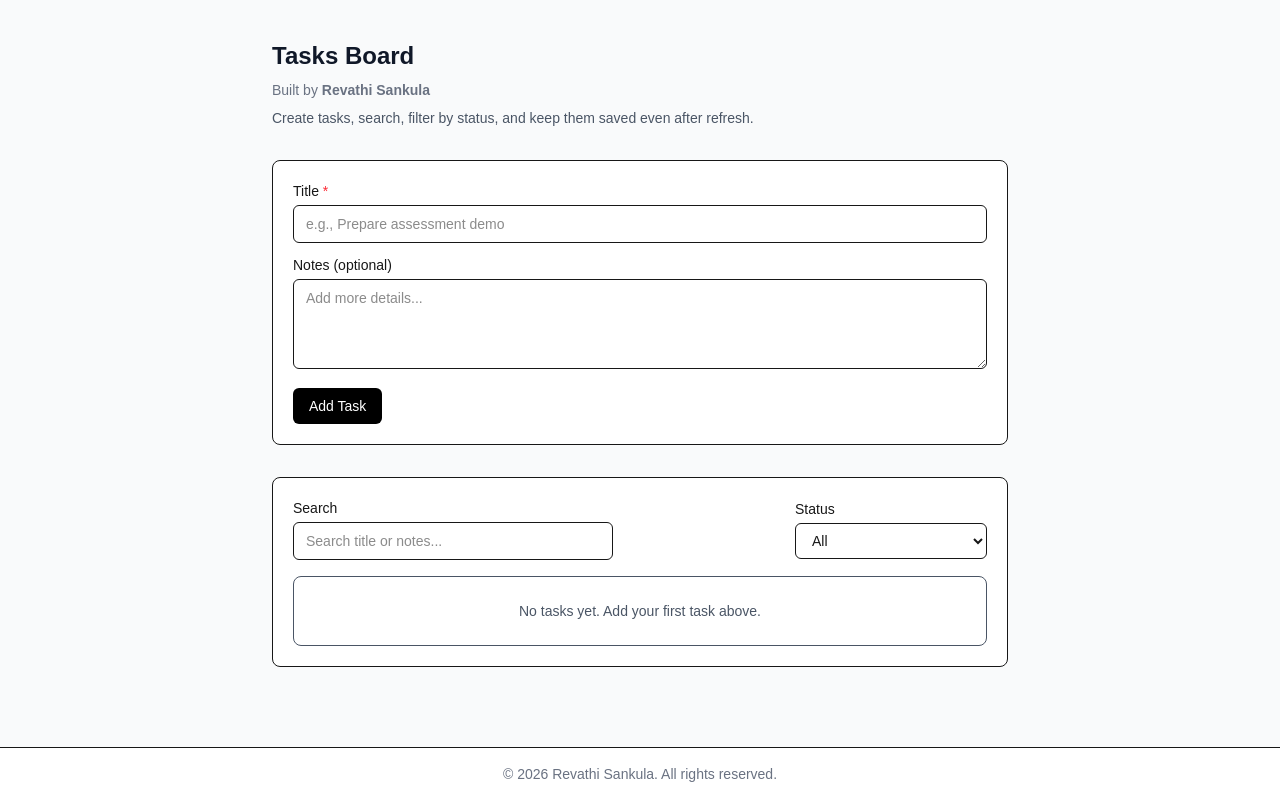
Test: Tasks Board workflow › search filters tasks by title/notes
In the field labelled "Title *": (640, 224) [293,205,987,243], type "Buy milk"
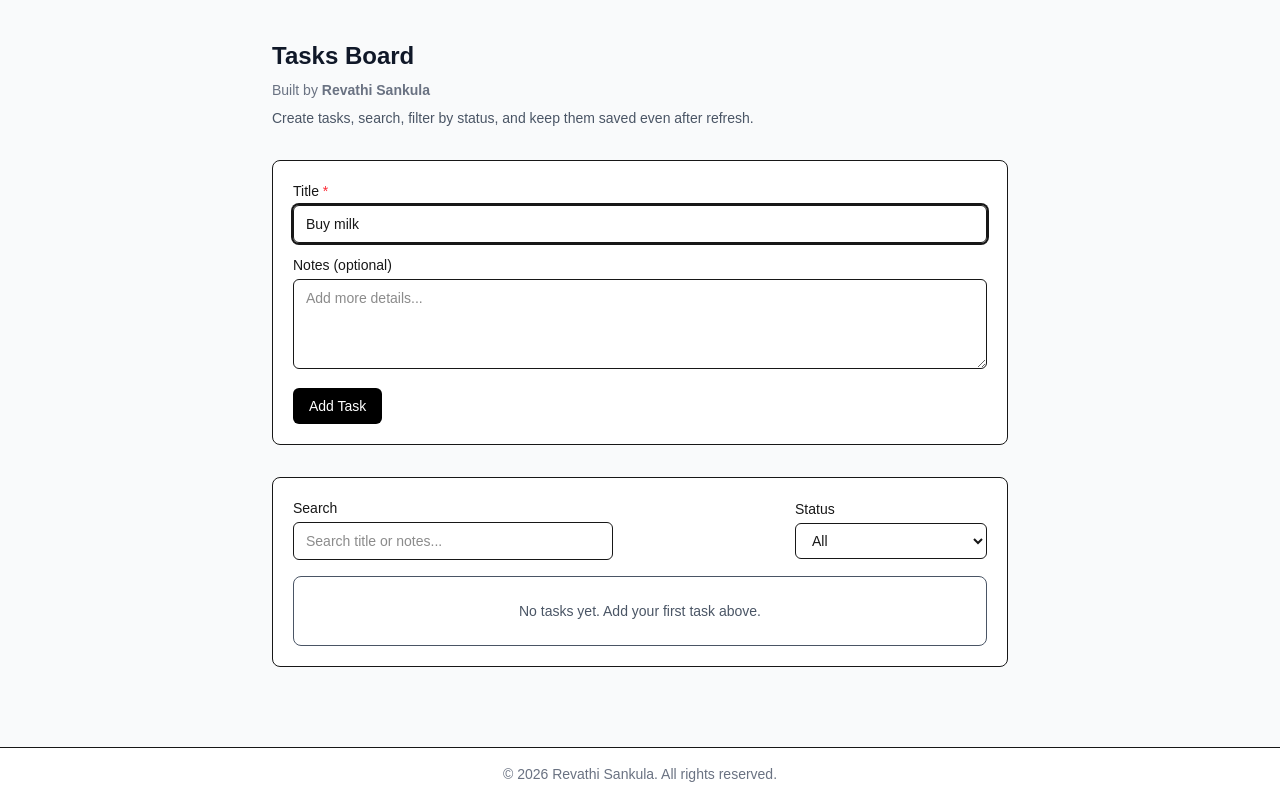
Click the button "Add Task": (338, 406) [293,388,382,424]
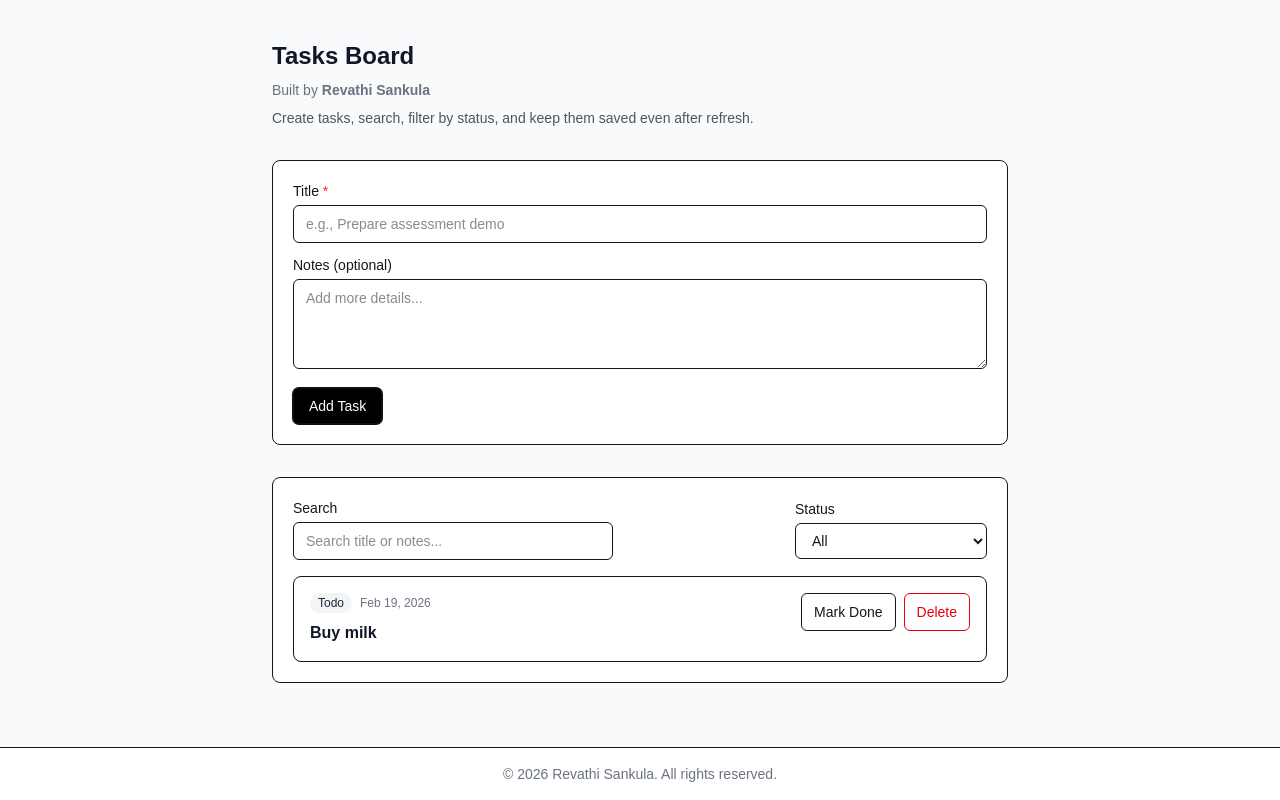
In the field labelled "Title *": (640, 224) [293,205,987,243], type "Gym session"
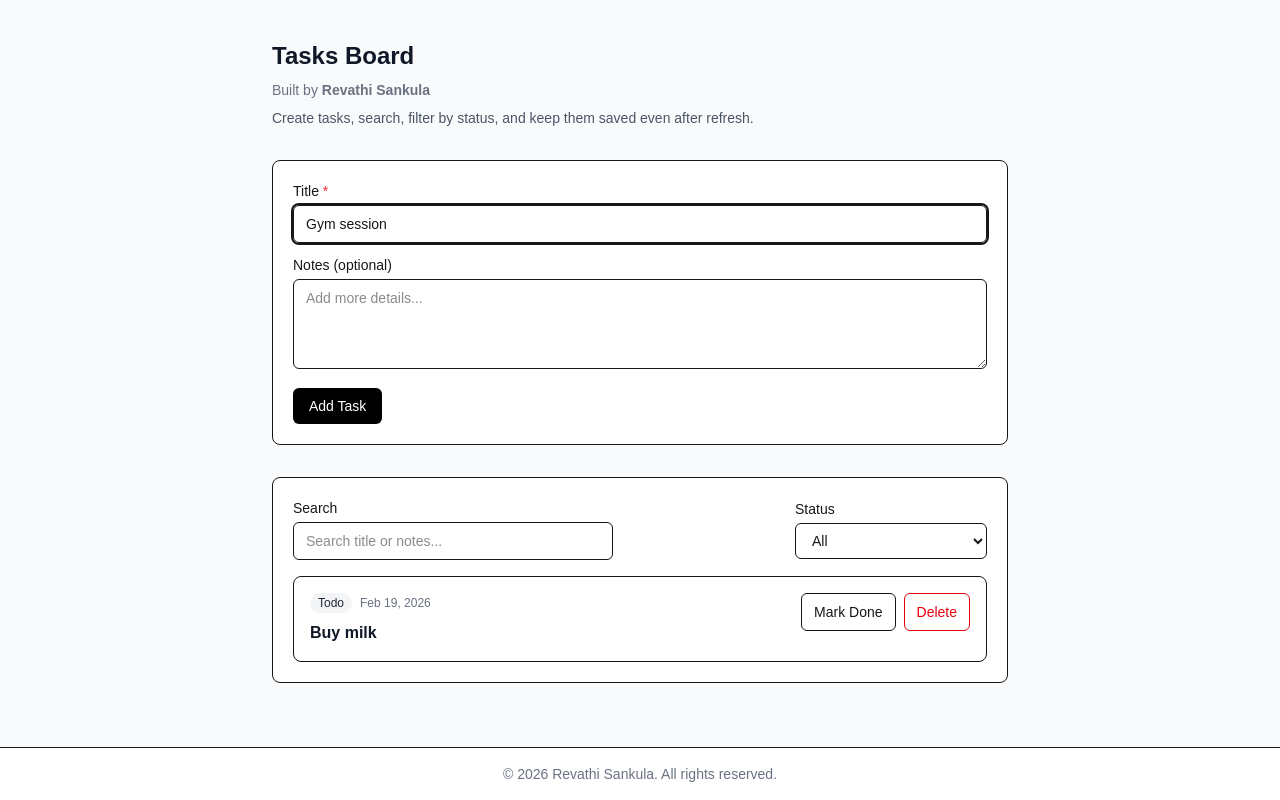
In the text box labelled "Notes (optional)": (640, 324) [293,279,987,369], type "Leg day"
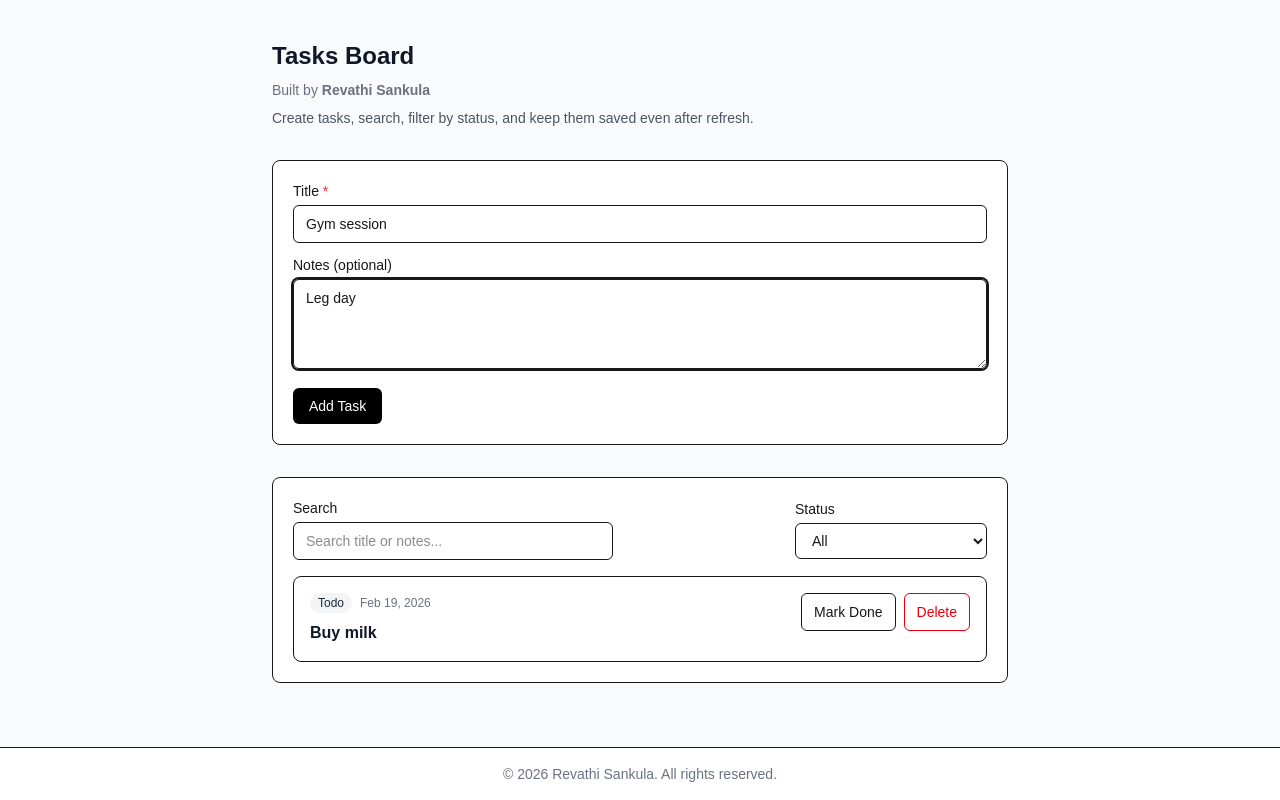
Click the button "Add Task": (338, 406) [293,388,382,424]
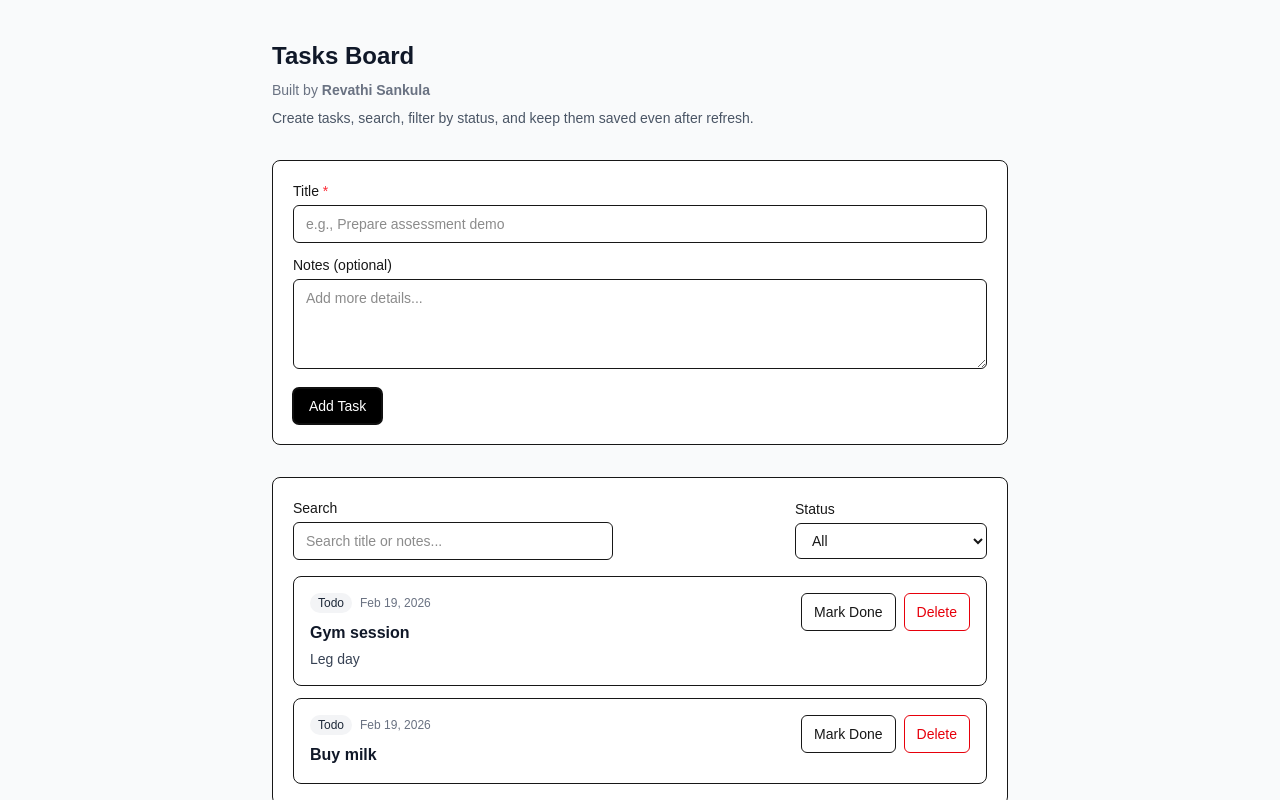
expect the heading "Buy milk" is shown: met, box [310,746,377,763]
expect the heading "Gym session" is shown: met, box [310,624,410,641]
In the field labelled "Search": (453, 541) [293,522,613,560], type "milk"
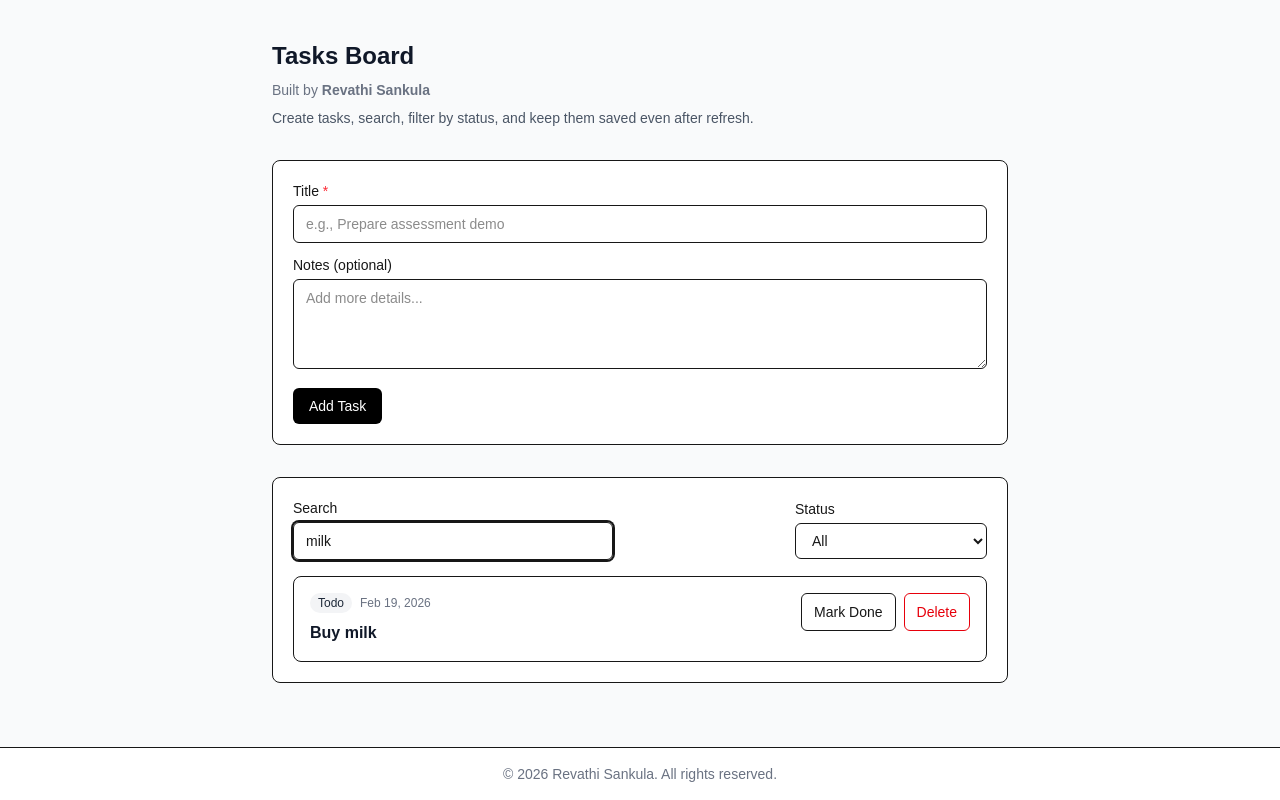
expect the heading "Buy milk" is shown: met, box [310,624,377,641]
expect the heading "Gym session" is gone: met
